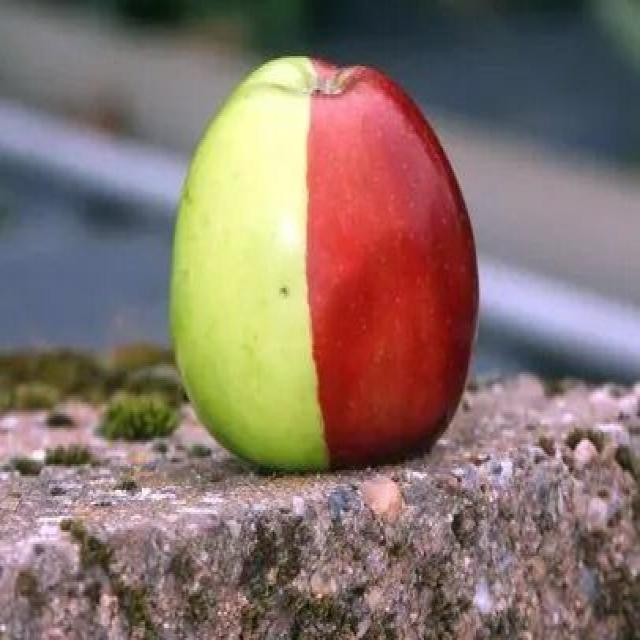fresh_apple: (173, 52, 477, 462)
